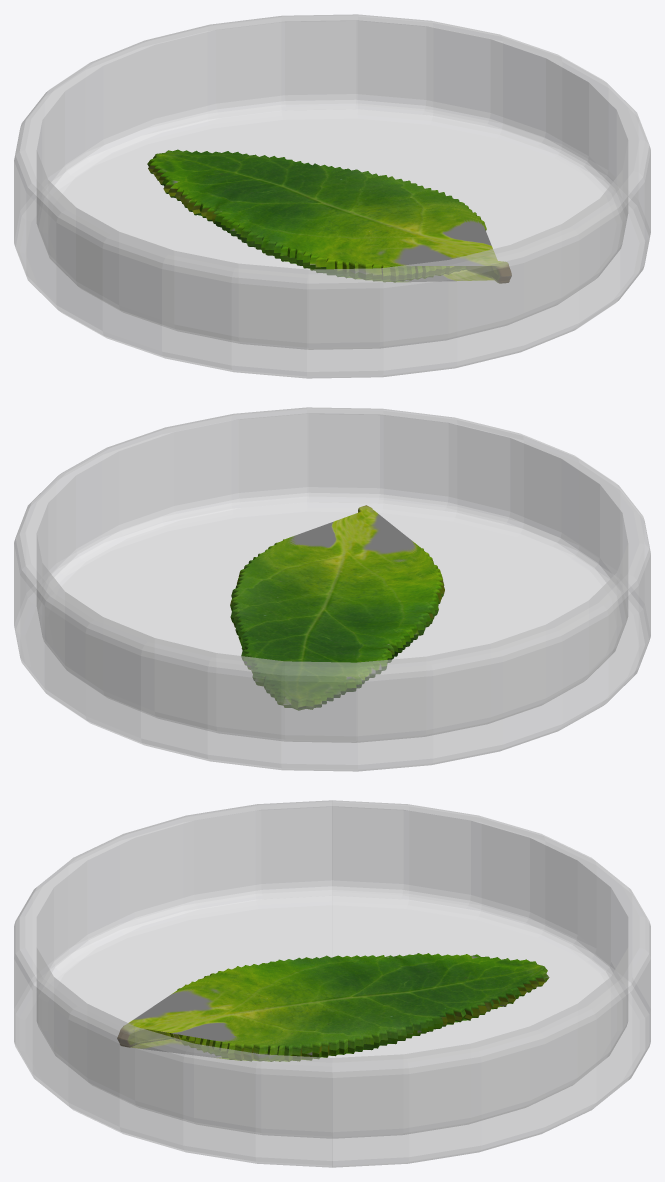
The model's file is 樹葉培養皿.fbx.
3 views of the same model, one above another, from view 1: azimuth 30°, elevation 25°; view 2: azimuth 150°, elevation 25°; view 3: azimuth 270°, elevation 25° (orthographic).
Visible parts, largest first — view 1: 培養皿, leaves; view 2: 培養皿, leaves; view 3: 培養皿, leaves.
Part boxes in pixels (bbox=[...]): 培養皿: bbox=[14, 14, 650, 378]; leaves: bbox=[147, 149, 511, 283]; 培養皿: bbox=[14, 407, 650, 771]; leaves: bbox=[230, 505, 444, 710]; 培養皿: bbox=[14, 800, 650, 1167]; leaves: bbox=[117, 953, 549, 1061].
Bounding box in the file's own units: 14 × 2.5 × 13.9.
2 materials, 1 textured.
